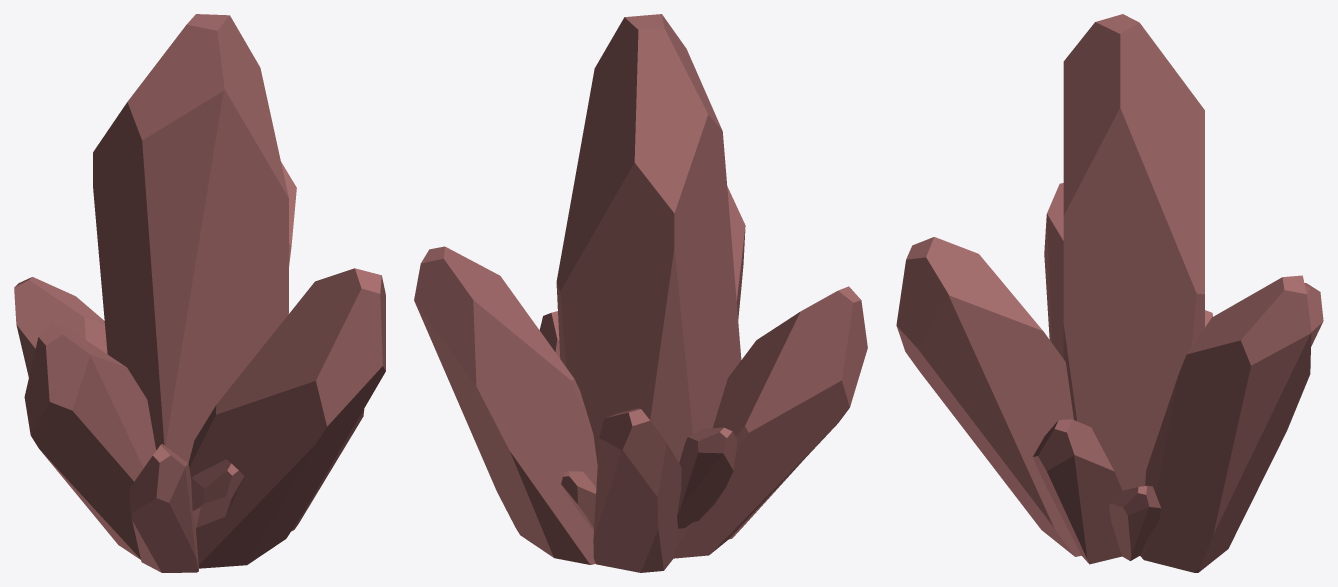
File: crystals_pink.fbx
The picture shows the model from 3 angles, left to right: view 1: azimuth 30°, elevation 25°; view 2: azimuth 150°, elevation 25°; view 3: azimuth 270°, elevation 25°; orthographic projection.
Parts seen in each view (by area): view 1: Cube.005; view 2: Cube.005; view 3: Cube.005.
Part boxes in pixels (left/top/right/bottom): Cube.005: left=14, top=14, right=385, bottom=572; Cube.005: left=414, top=14, right=867, bottom=572; Cube.005: left=896, top=14, right=1323, bottom=572.
Bounding box in the file's own units: 554 × 791 × 604.
